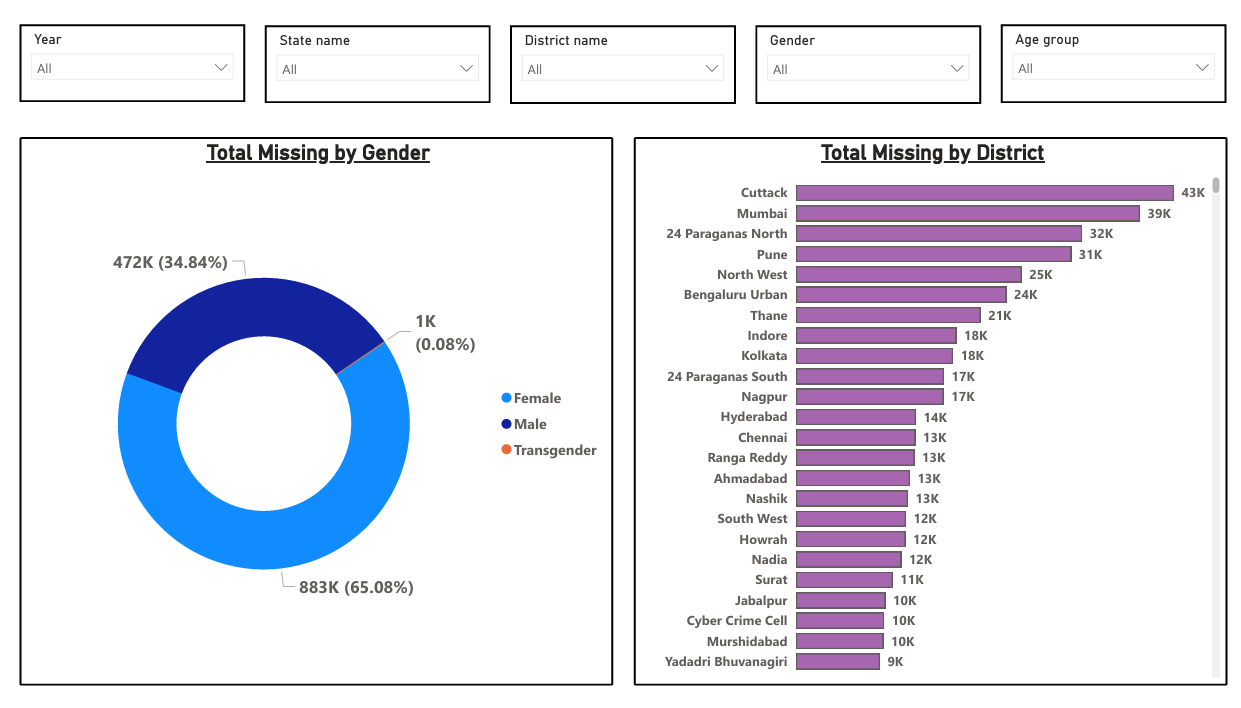

The dashboard page shown, as its layout file describes it:
{"tool":"powerbi","page":{"name":" Page 4","canvas":[1280,720],"ordinal":3},"visuals":[{"type":"slicer","fields":{"Values":["cleaned_missing_data.Year"]},"box":[20,20,232,80],"z":0},{"type":"slicer","fields":{"Values":["cleaned_missing_data.State name"]},"box":[272,20.6,232,80],"z":1000},{"type":"slicer","fields":{"Values":["cleaned_missing_data.District name"]},"box":[524,20.6,232,81],"z":2000},{"type":"slicer","fields":{"Values":["cleaned_missing_data.Gender"]},"box":[776,20.6,232,81],"z":3000},{"type":"slicer","fields":{"Values":["cleaned_missing_data.Age group"]},"box":[1028,20,232,81],"z":4000},{"type":"donutChart","fields":{"Category":["cleaned_missing_data.Gender"],"Y":["cleaned_missing_data.Total Missing"]},"box":[20,136,610,563.7],"z":4001},{"type":"barChart","title":"Total Missing by District","fields":{"Y":["cleaned_missing_data.Total Missing"],"Category":["cleaned_missing_data.District name"]},"box":[650.5,136,610.2,563.7],"z":4002}]}

Visuals, with their boxes in screenshot pixels (x1, y1, x2, y2), scaled from the page's 1280x720 canvas onto the 1241x708 screenshot:
slicer - cleaned_missing_data.Year: <region>19, 20, 244, 98</region>
slicer - cleaned_missing_data.State name: <region>264, 20, 489, 99</region>
slicer - cleaned_missing_data.District name: <region>508, 20, 733, 100</region>
slicer - cleaned_missing_data.Gender: <region>752, 20, 977, 100</region>
slicer - cleaned_missing_data.Age group: <region>997, 20, 1222, 99</region>
donutChart - cleaned_missing_data.Gender x cleaned_missing_data.Total Missing: <region>19, 134, 611, 688</region>
"Total Missing by District" barChart: <region>631, 134, 1222, 688</region>
